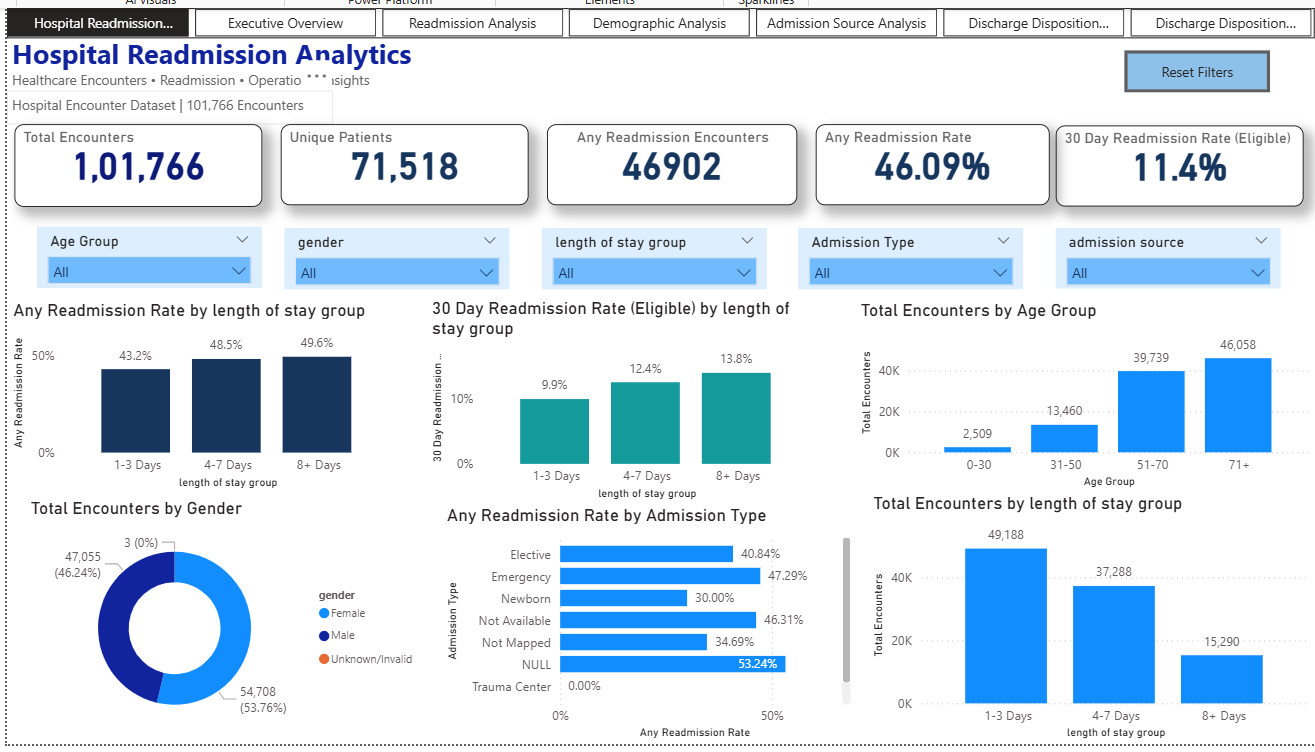

The page's visual inventory and layout, read from the dashboard file:
{"tool":"powerbi","page":{"name":"Hospital Readmission Dashboard","canvas":[1280,720],"ordinal":0},"visuals":[{"type":"textbox","box":[0,20.5,1280.8,76.9],"z":0},{"type":"textbox","box":[0,80.8,319.2,33.3],"z":1000},{"type":"card","title":"Total Encounters","fields":{"Values":["diabetic_data.Total Encounters"]},"box":[60.3,116.7,200,80],"z":2000},{"type":"card","title":"Unique Patients","fields":{"Values":["diabetic_data.Unique Patients"]},"box":[380.8,116.7,200,80],"z":3000},{"type":"card","title":"Readmitted Encounters","fields":{"Values":["diabetic_data.Readmitted Encounters"]},"box":[715.4,116.7,200,80],"z":4000},{"type":"card","title":"Readmission Rate","fields":{"Values":["diabetic_data.Readmission Rate"]},"box":[1016.7,116.7,200,80],"z":5000},{"type":"slicer","title":"Age group","fields":{"Values":["diabetic_data.age"]},"box":[16.7,215.4,223.1,59],"z":6000},{"type":"slicer","fields":{"Values":["diabetic_data.gender"]},"box":[271.6,214.9,220,60],"z":7000},{"type":"slicer","fields":{"Values":["diabetic_data.length of stay group"]},"box":[523,214.9,220,60],"z":8000},{"type":"slicer","fields":{"Values":["diabetic_data.Admission Type"]},"box":[774.3,214.9,220,60],"z":9000},{"type":"slicer","fields":{"Values":["diabetic_data.admission source"]},"box":[1025.7,214.9,220.3,59.5],"z":10000},{"type":"clusteredColumnChart","fields":{"Category":["diabetic_data.length of stay group"],"Y":["diabetic_data.Readmission Rate"]},"box":[1.4,284.6,380,190],"z":11000},{"type":"clusteredColumnChart","fields":{"Category":["diabetic_data.length of stay group"],"Y":["diabetic_data.30 Day Readmission Rate"]},"box":[411.5,284.6,380.8,189.7],"z":12000},{"type":"clusteredColumnChart","title":"Readmission Rate by Admission Type","fields":{"Category":["Admission_type_map.Admission Type"],"Y":["diabetic_data.Readmission Rate by Admission Type"]},"box":[2.6,484.6,379.5,225.6],"z":13000},{"type":"donutChart","title":"Encounters by Gender","fields":{"Category":["diabetic_data.gender"],"Y":["diabetic_data.Total Encounters"]},"box":[411.5,484.6,392.3,235.9],"z":14000},{"type":"pageNavigator","box":[0,0,1201.4,20],"z":15000},{"type":"actionButton","box":[1093.6,41,142.3,41],"z":16000},{"type":"funnel","fields":{"Category":["diabetic_data.Age Group"],"Y":["diabetic_data.Total Encounters"]},"box":[830.8,284.6,448.7,189.7],"z":17000},{"type":"pieChart","title":"Readmission Rate by Admission Type","fields":{"Category":["diabetic_data.Admission Type"],"Y":["diabetic_data.Readmission Rate by Admission Type"]},"box":[830.8,474.4,415.4,246.2],"z":18000}]}

Visuals, with their boxes on the page's 1280x720 design canvas (x1, y1, x2, y2). These are canvas units, not pixel positions in the 1315x752 screenshot, which may show the page scaled, cropped or inside an application window:
textbox: select_region(0, 20, 1281, 97)
textbox: select_region(0, 81, 319, 114)
"Total Encounters" card: select_region(60, 117, 260, 197)
"Unique Patients" card: select_region(381, 117, 581, 197)
"Readmitted Encounters" card: select_region(715, 117, 915, 197)
"Readmission Rate" card: select_region(1017, 117, 1217, 197)
"Age group" slicer: select_region(17, 215, 240, 274)
slicer - diabetic_data.gender: select_region(272, 215, 492, 275)
slicer - diabetic_data.length of stay group: select_region(523, 215, 743, 275)
slicer - diabetic_data.Admission Type: select_region(774, 215, 994, 275)
slicer - diabetic_data.admission source: select_region(1026, 215, 1246, 274)
clusteredColumnChart - diabetic_data.length of stay group x diabetic_data.Readmission Rate: select_region(1, 285, 381, 475)
clusteredColumnChart - diabetic_data.length of stay group x diabetic_data.30 Day Readmission Rate: select_region(412, 285, 792, 474)
"Readmission Rate by Admission Type" clusteredColumnChart: select_region(3, 485, 382, 710)
"Encounters by Gender" donutChart: select_region(412, 485, 804, 720)
pageNavigator: select_region(0, 0, 1201, 20)
actionButton: select_region(1094, 41, 1236, 82)
funnel - diabetic_data.Age Group x diabetic_data.Total Encounters: select_region(831, 285, 1280, 474)
"Readmission Rate by Admission Type" pieChart: select_region(831, 474, 1246, 721)
